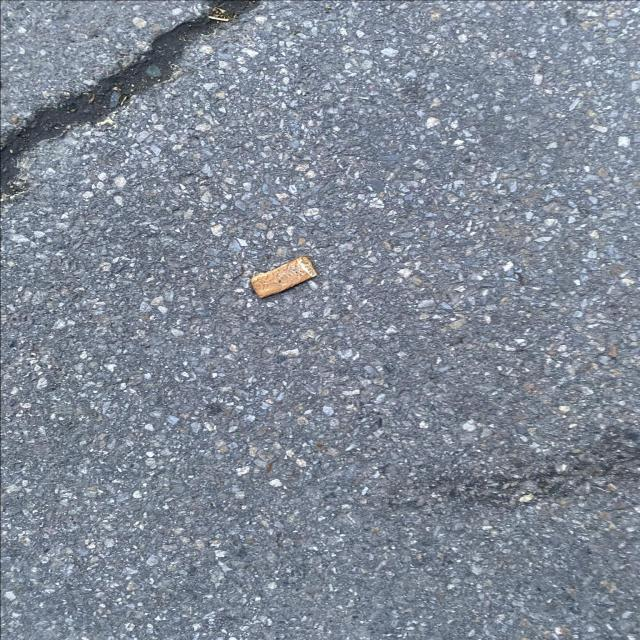other waste: (250, 255, 318, 299)
